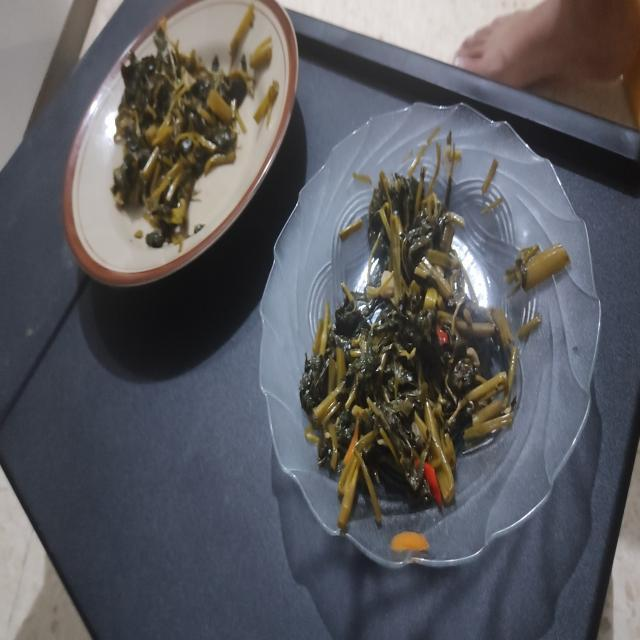tumis_kangkung: (300, 166, 516, 528), (111, 21, 252, 247)
